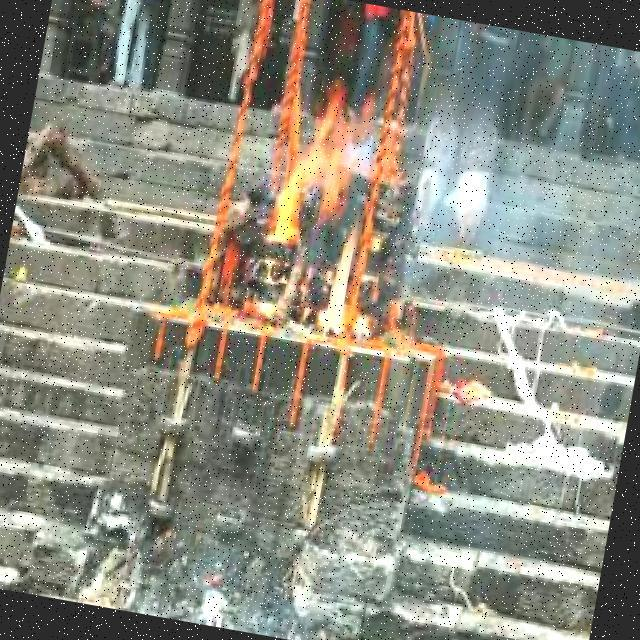Fire: (256, 79, 400, 341)
